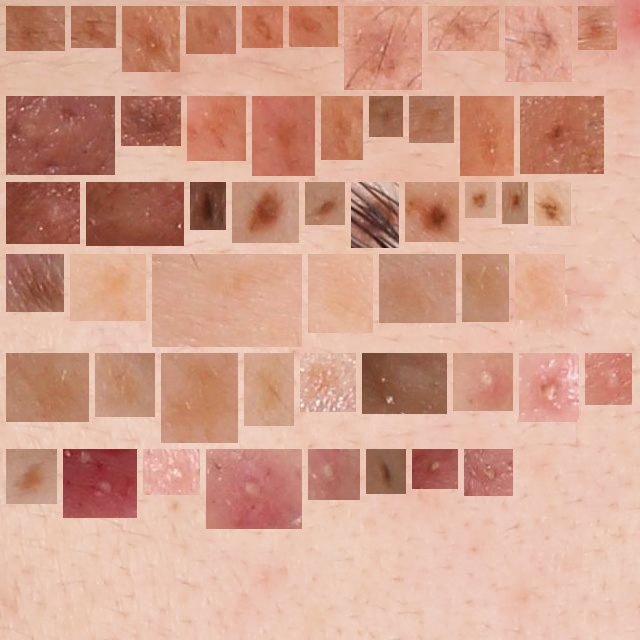hypertrophic_scar: (14, 104, 107, 167), (94, 190, 176, 238), (370, 361, 439, 406), (14, 190, 72, 236)
melasma: (160, 262, 294, 339), (169, 361, 230, 435), (352, 14, 414, 82), (14, 361, 81, 414), (387, 262, 448, 315), (316, 262, 365, 325), (513, 14, 564, 74), (78, 262, 138, 313), (260, 104, 307, 168), (468, 104, 506, 168), (103, 361, 147, 409), (195, 104, 238, 153), (130, 14, 172, 64), (252, 361, 286, 418), (308, 361, 348, 404), (523, 262, 557, 312), (470, 262, 501, 314), (436, 14, 491, 43), (129, 104, 173, 138), (14, 457, 49, 496), (329, 104, 355, 152), (14, 14, 57, 43), (194, 14, 228, 46), (417, 104, 446, 135), (297, 14, 330, 39), (79, 14, 108, 40), (250, 14, 275, 40), (586, 14, 609, 42), (377, 104, 395, 129)
nevus: (528, 104, 596, 166), (240, 190, 291, 235), (14, 262, 56, 304), (413, 190, 451, 234), (359, 190, 391, 240), (374, 457, 398, 486), (313, 190, 337, 217), (198, 190, 218, 222), (542, 190, 563, 218), (473, 190, 488, 210), (510, 190, 520, 216)
pustule: (214, 457, 294, 521), (71, 457, 129, 510), (527, 361, 571, 414), (461, 361, 505, 403), (316, 457, 352, 492), (151, 457, 192, 487), (593, 361, 624, 397), (472, 457, 505, 488), (420, 457, 450, 481)
